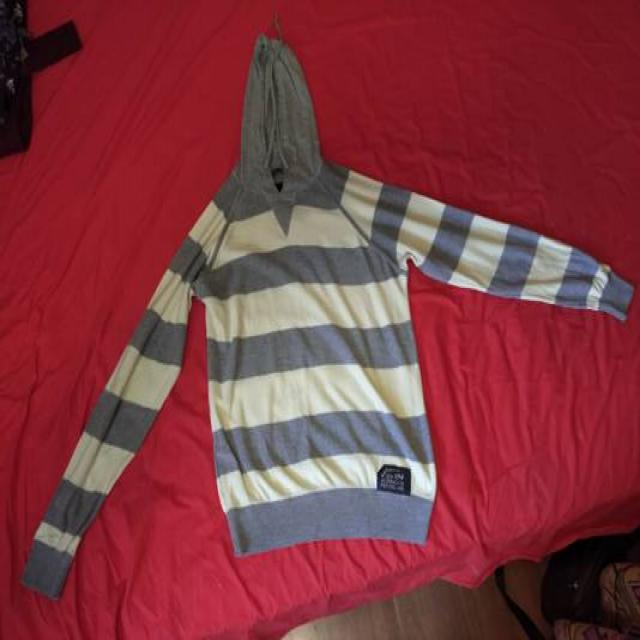Clothes -Biodegradable-: (22, 31, 634, 596)
